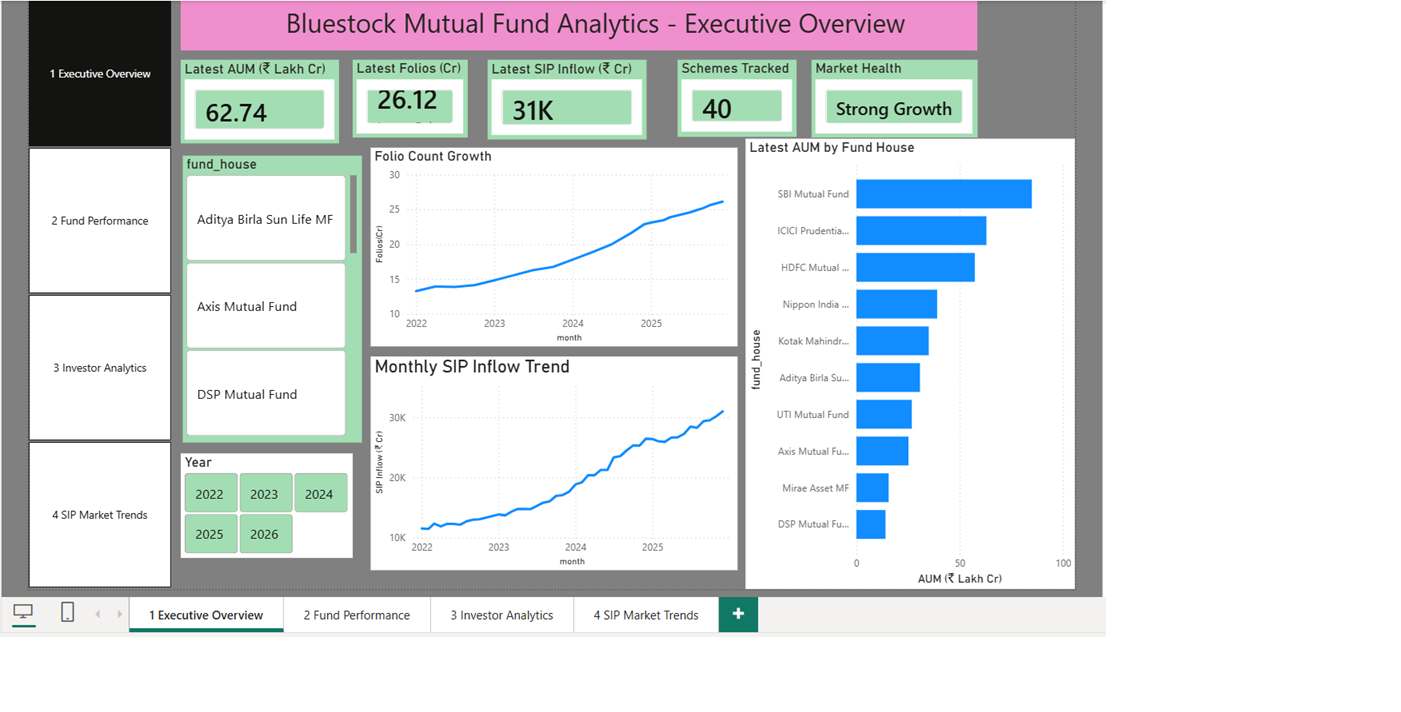

This screenshot's page, from the dashboard's own definition file:
{"tool":"powerbi","page":{"name":"1 Executive Overview","canvas":[1280,720],"ordinal":0},"visuals":[{"type":"textbox","box":[185.9,0,974.6,61.1],"z":0},{"type":"cardVisual","title":"Latest AUM (₹ Lakh Cr)","fields":{"Data":["Measures_Table.Latest AUM Lakh Cr"]},"box":[185.9,72.1,193.2,102.7],"z":1000},{"type":"cardVisual","title":"Latest SIP Inflow (₹ Cr)","fields":{"Data":["Measures_Table.Latest SIP Inflow Cr"]},"box":[561.3,72.1,194.4,97.8],"z":2000},{"type":"cardVisual","title":"Latest Folios (Cr)","fields":{"Data":["Measures_Table.Latest Folios Cr"]},"box":[396.2,72.1,140.6,95.4],"z":3000},{"type":"cardVisual","title":"Schemes Tracked","fields":{"Data":["Measures_Table.Scheme Count"]},"box":[793.6,72.1,145.5,94.2],"z":4000},{"type":"lineChart","title":" Monthly SIP Inflow Trend","fields":{"Category":["fact_sip.month"],"Y":["Sum(fact_sip.sip_inflow_crore)"]},"box":[418.2,435.3,448.8,261.7],"z":5000},{"type":"lineChart","title":"Folio Count Growth","fields":{"Category":["fact_folio_count.month"],"Y":["Sum(fact_folio_count.total_folios_crore)"]},"box":[418.2,179.8,448.8,243.3],"z":6000},{"type":"clusteredBarChart","title":"Latest AUM by Fund House","fields":{"Category":["fact_aum.fund_house"],"Y":["Sum(fact_aum.aum_lakh_crore)"]},"box":[876.8,168.8,403.5,551.5],"z":7000},{"type":"advancedSlicerVisual","fields":{"Values":["Dim_Date.Year"]},"box":[185.9,553.9,210.3,128.4],"z":8000},{"type":"advancedSlicerVisual","fields":{"Values":["dim_fund.fund_house"]},"box":[188.3,189.5,218.9,351],"z":9000},{"type":"pageNavigator","box":[0,0,174.9,720.2],"z":10000},{"type":"cardVisual","title":"Market Health","fields":{"Data":["Measures_Table.Market Health Indicator"]},"box":[957.5,72.1,203,95.4],"z":11000}]}

Visuals, with their boxes on the page's 1280x720 design canvas (x1, y1, x2, y2). These are canvas units, not pixel positions in the 1401x712 screenshot, which may show the page scaled, cropped or inside an application window:
textbox: l=186, t=0, r=1160, b=61
"Latest AUM (₹ Lakh Cr)" cardVisual: l=186, t=72, r=379, b=175
"Latest SIP Inflow (₹ Cr)" cardVisual: l=561, t=72, r=756, b=170
"Latest Folios (Cr)" cardVisual: l=396, t=72, r=537, b=168
"Schemes Tracked" cardVisual: l=794, t=72, r=939, b=166
" Monthly SIP Inflow Trend" lineChart: l=418, t=435, r=867, b=697
"Folio Count Growth" lineChart: l=418, t=180, r=867, b=423
"Latest AUM by Fund House" clusteredBarChart: l=877, t=169, r=1280, b=720
advancedSlicerVisual - Dim_Date.Year: l=186, t=554, r=396, b=682
advancedSlicerVisual - dim_fund.fund_house: l=188, t=190, r=407, b=540
pageNavigator: l=0, t=0, r=175, b=720
"Market Health" cardVisual: l=958, t=72, r=1160, b=168
